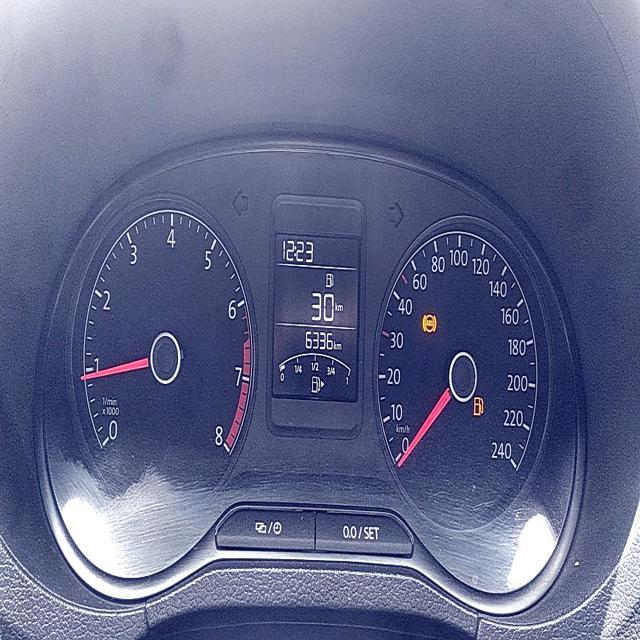odometer: (301, 328, 334, 356)
